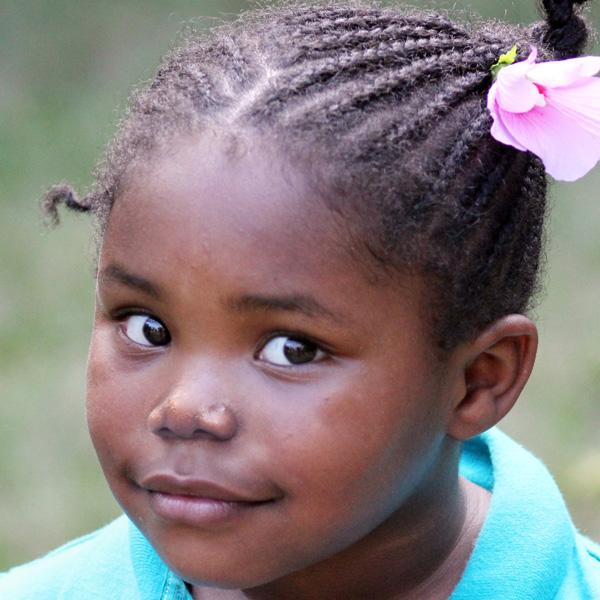Eyes: (241, 319, 347, 387), (98, 290, 182, 362)
